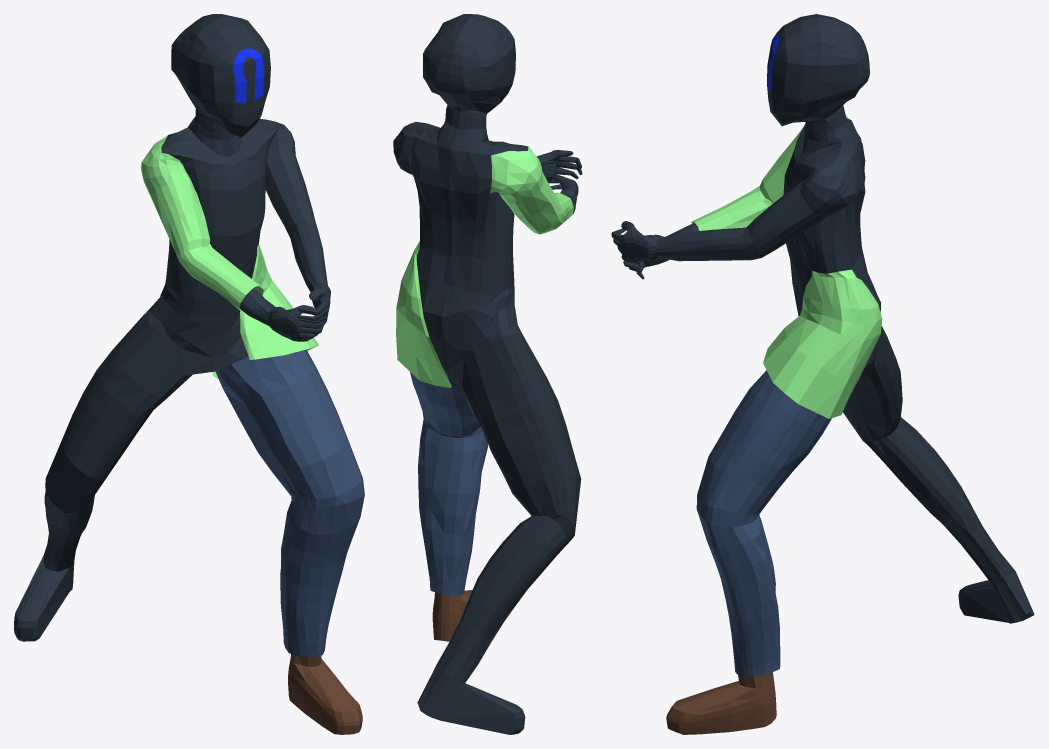
File: Mar_WR_000008.obj
The picture shows the model from 3 angles, left to right: view 1: azimuth 30°, elevation 25°; view 2: azimuth 150°, elevation 25°; view 3: azimuth 270°, elevation 25°; orthographic projection. The views are drawn at different scales.
Parts seen in each view (by area): view 1: Cube.000_Cube.001; view 2: Cube.000_Cube.001; view 3: Cube.000_Cube.001.
Boxes of the visible parts, bbox=[...] form: Cube.000_Cube.001: bbox=[14, 14, 364, 734]; Cube.000_Cube.001: bbox=[393, 14, 582, 734]; Cube.000_Cube.001: bbox=[611, 14, 1034, 734].
Bounding box in the file's own units: 1.33 × 3.73 × 2.09.
